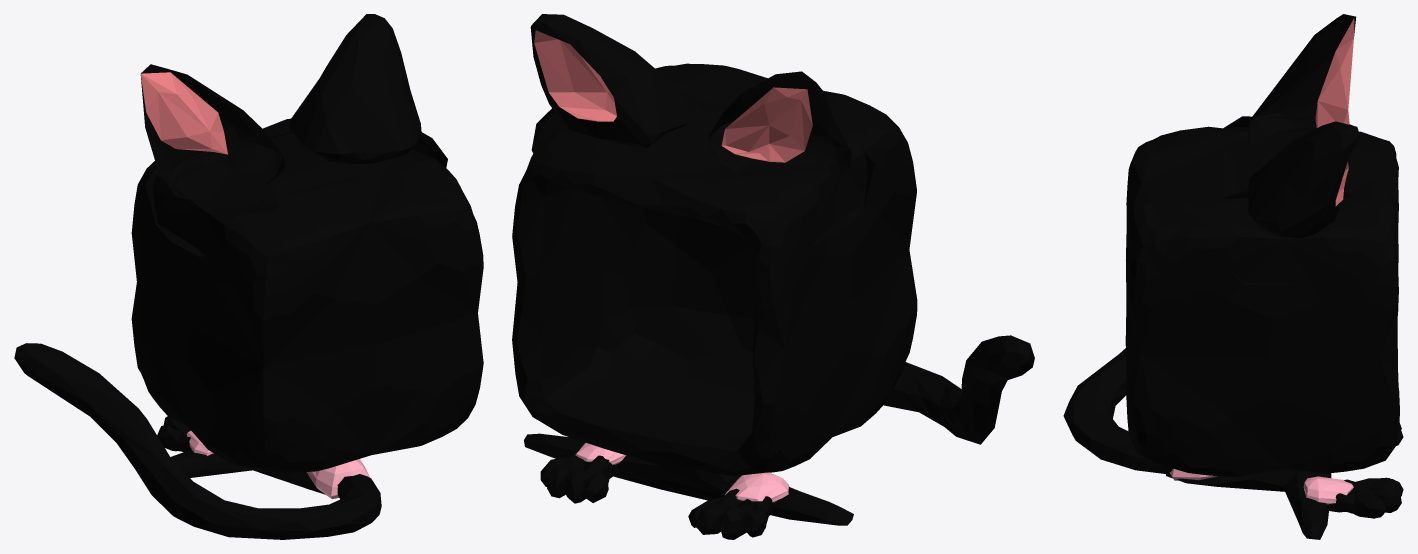
File: nekocom.glb
3 views of the same model, side by side, from view 1: azimuth 30°, elevation 25°; view 2: azimuth 150°, elevation 25°; view 3: azimuth 270°, elevation 25° (orthographic). The views are drawn at different scales.
Parts seen in each view (by area): view 1: monitor, tail, right ear, left ear, ear band, tail connector, left paw; view 2: monitor, right ear, left ear, tail, left paw, right paw, ear band, paw connector left; view 3: monitor, right ear, left ear, tail, right paw, ear band, paw connector right.
Boxes of the visible parts, box(x1,y1,x2,y2) form: monitor: box(131, 118, 483, 494); tail: box(14, 343, 381, 539); right ear: box(289, 14, 421, 164); left ear: box(140, 64, 285, 202); ear band: box(145, 132, 447, 256); tail connector: box(306, 459, 370, 499); left paw: box(157, 416, 191, 451); monitor: box(512, 63, 917, 525); right ear: box(530, 14, 695, 147); left ear: box(707, 71, 851, 186); tail: box(883, 335, 1034, 444); left paw: box(688, 488, 774, 539); right paw: box(540, 450, 618, 503); ear band: box(531, 99, 874, 245); paw connector left: box(725, 472, 789, 502); monitor: box(1125, 126, 1399, 539); right ear: box(1248, 121, 1359, 238); left ear: box(1248, 14, 1356, 159); tail: box(1063, 348, 1172, 474); right paw: box(1327, 477, 1403, 518); ear band: box(1222, 116, 1352, 286); paw connector right: box(1303, 476, 1353, 504).
Bounding box in the file's own units: 3.6 × 3.24 × 2.46.
